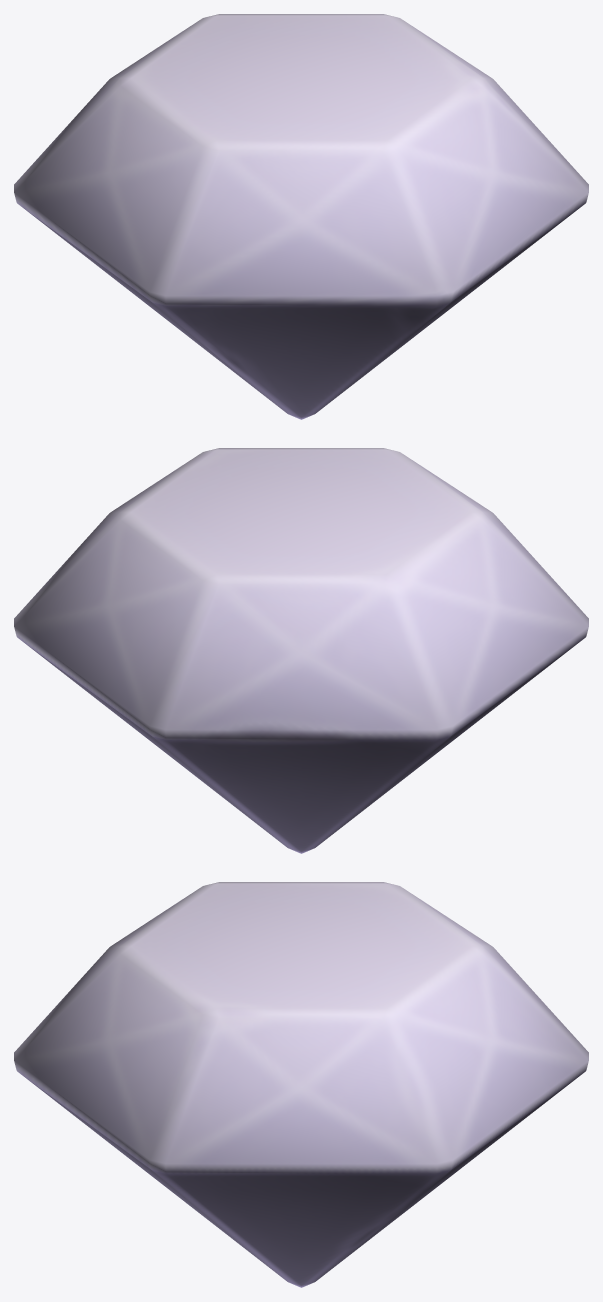
File: SM_Gem_Diamond_Piece_001.fbx
The picture shows the model from 3 angles, top to bottom: view 1: azimuth 30°, elevation 25°; view 2: azimuth 150°, elevation 25°; view 3: azimuth 270°, elevation 25°; orthographic projection.
Parts seen in each view (by area): view 1: SM_Gem_Diamond_Piece_001; view 2: SM_Gem_Diamond_Piece_001; view 3: SM_Gem_Diamond_Piece_001.
Boxes of the visible parts, x1,y1,x2,y2 form: SM_Gem_Diamond_Piece_001: (14,14,588,419); SM_Gem_Diamond_Piece_001: (14,448,588,853); SM_Gem_Diamond_Piece_001: (14,882,588,1287).
Size of the model in its own units: 17.31 by 12.87 by 19.63.
